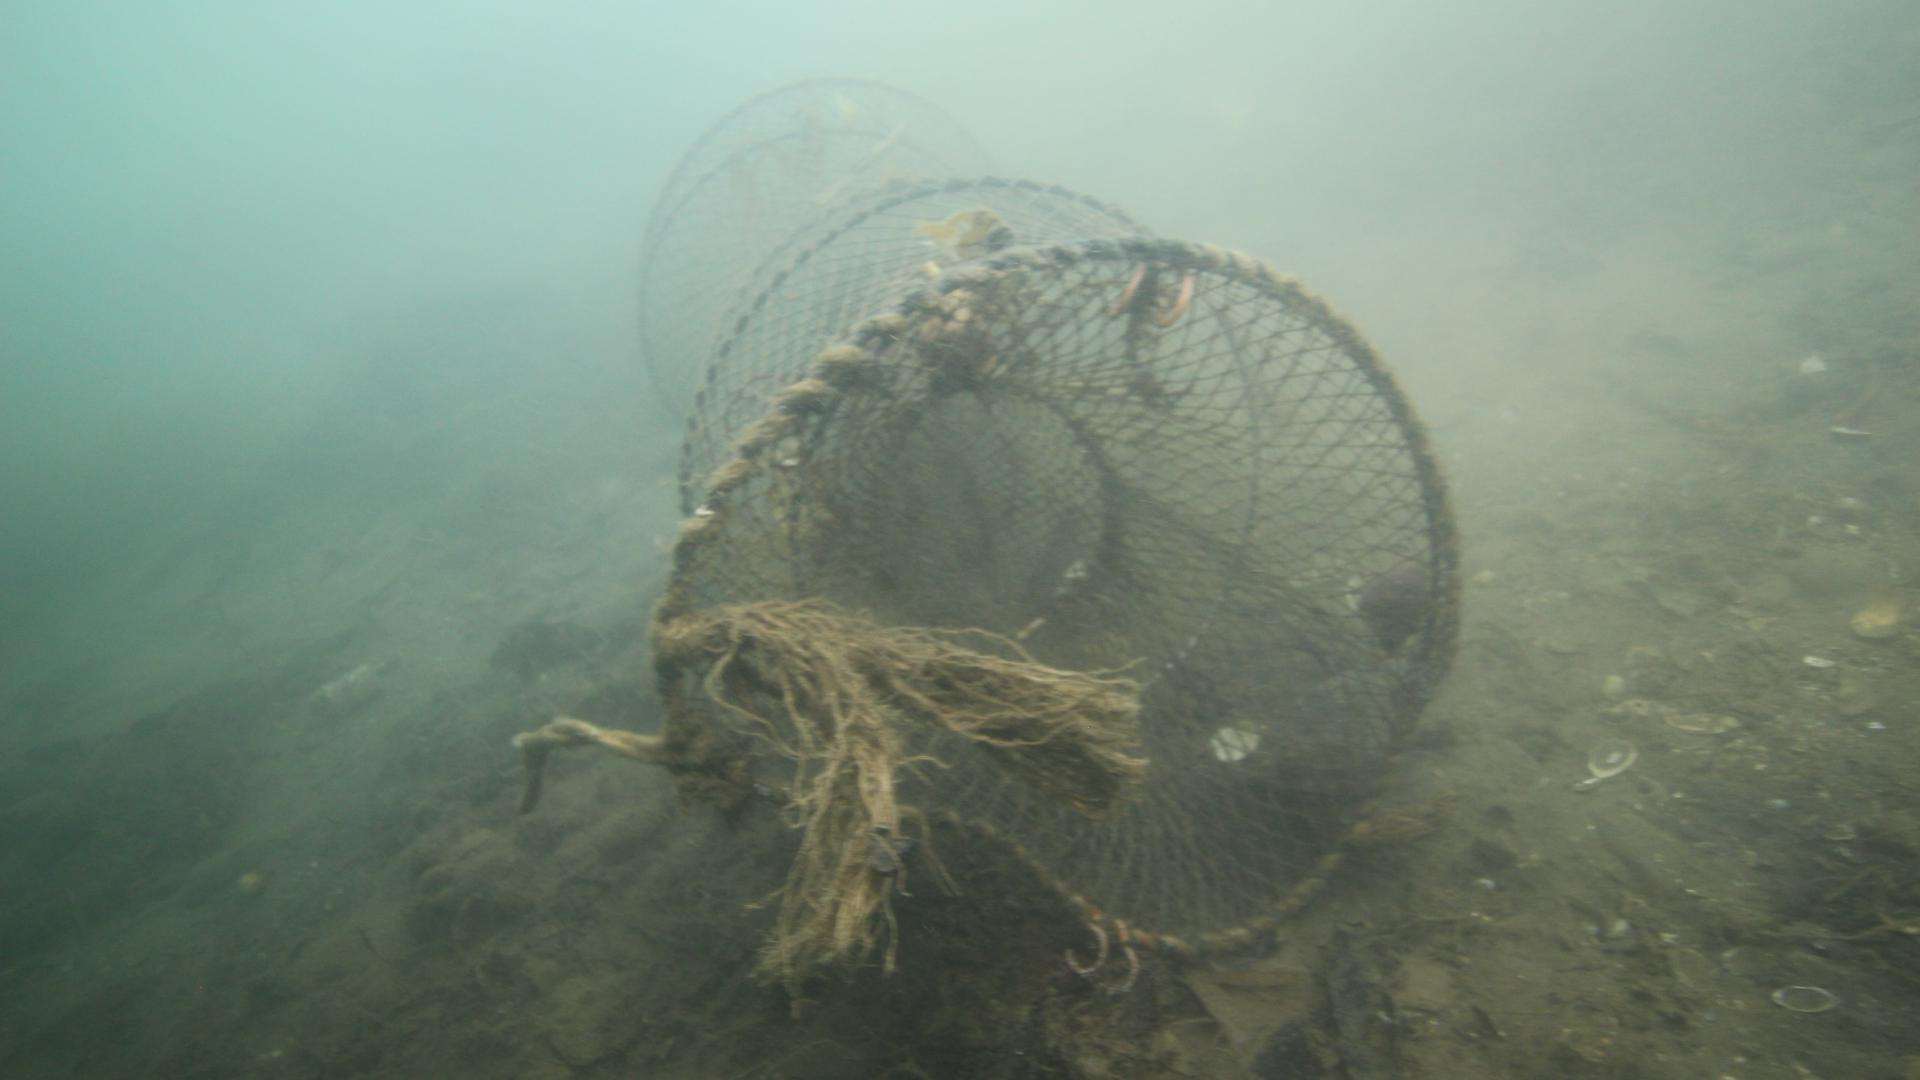spring fish trap: (632, 70, 1461, 996)
